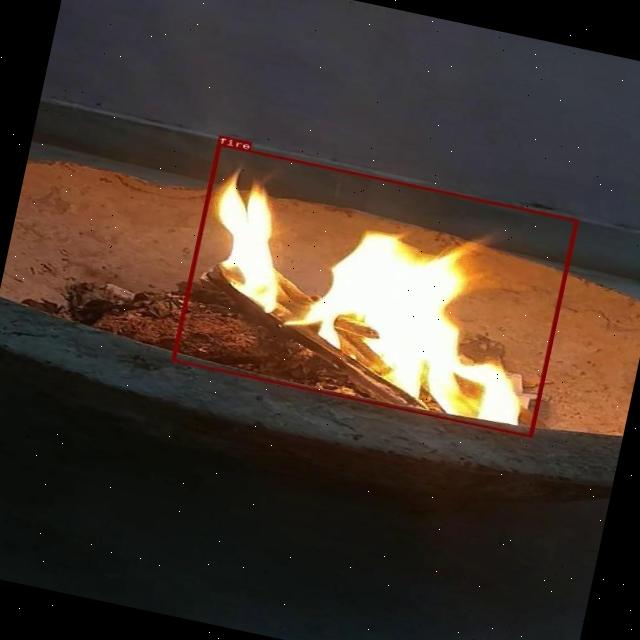fire: (170, 142, 578, 436)
